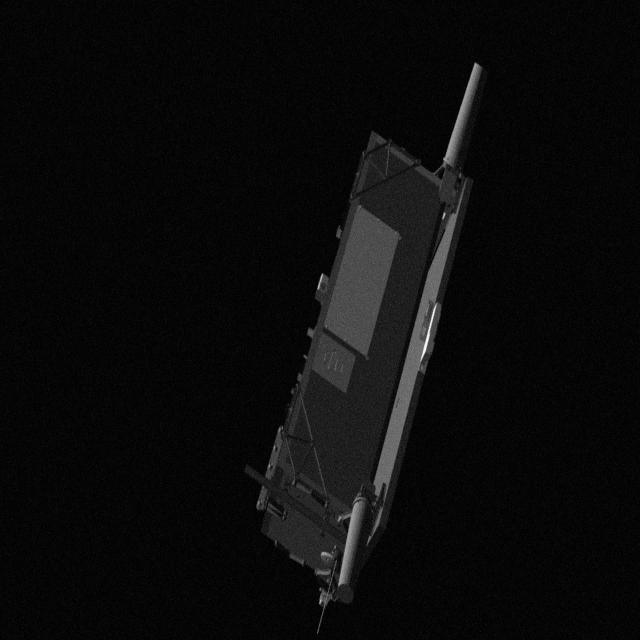satellite: (246, 46, 486, 634)
